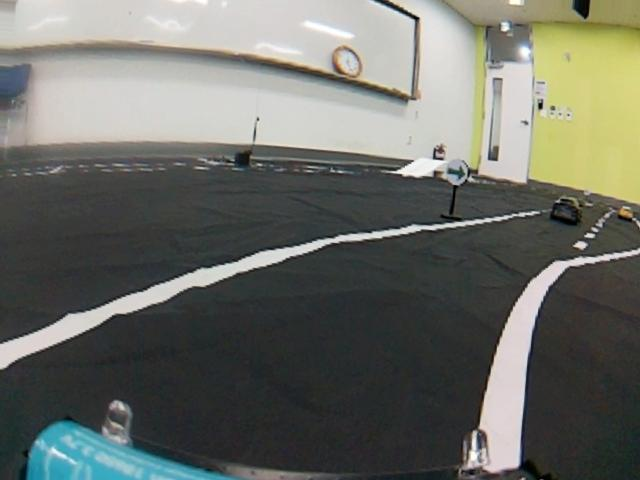car: (550, 189, 590, 229), (615, 198, 640, 224)
sign_right: (436, 154, 477, 187)
straight: (0, 264, 569, 480)
